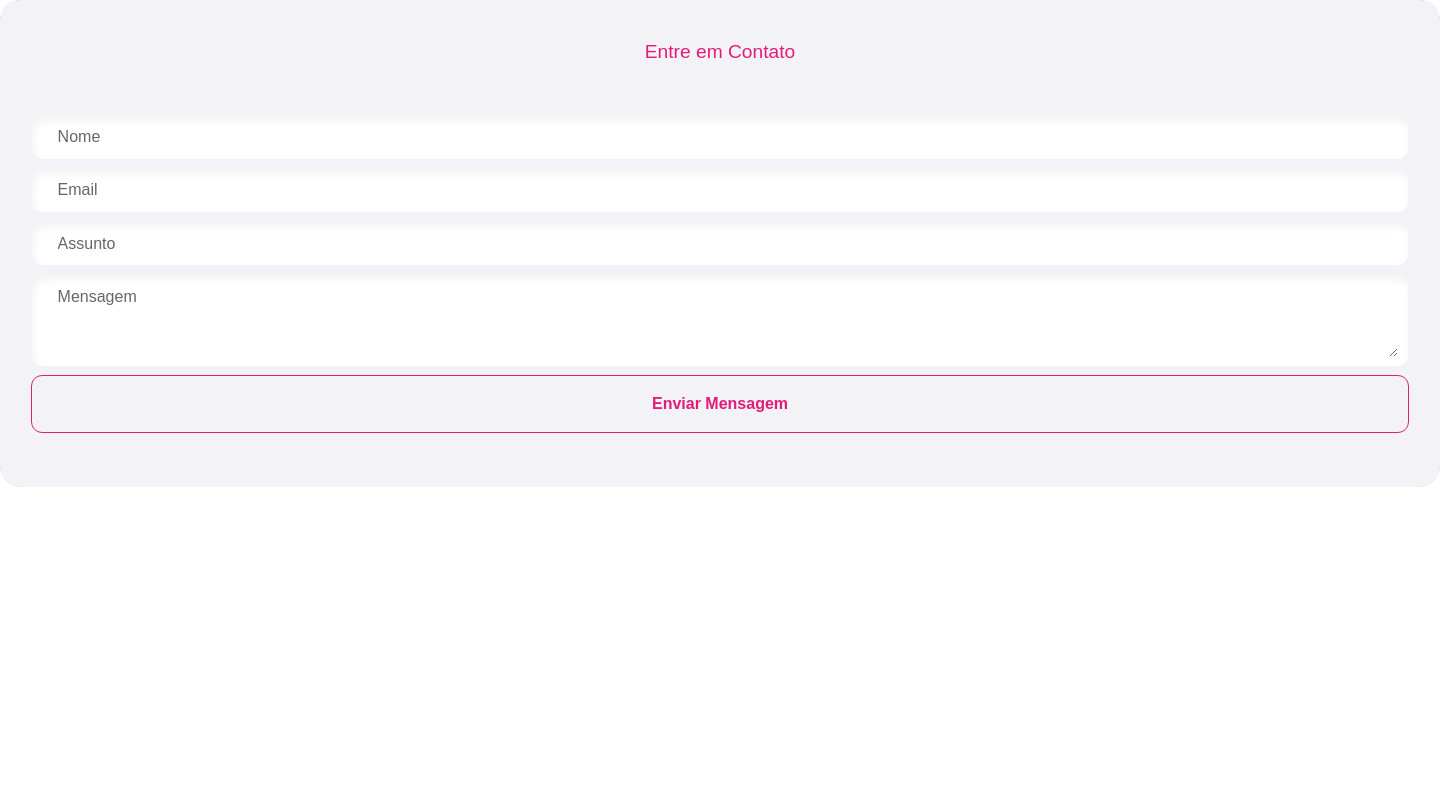
Test: ContactForm › falha de rede: mensagem genérica de erro
Type "Ada" into the field with placeholder "Nome" at (720, 137), box [42,125,1398,149]
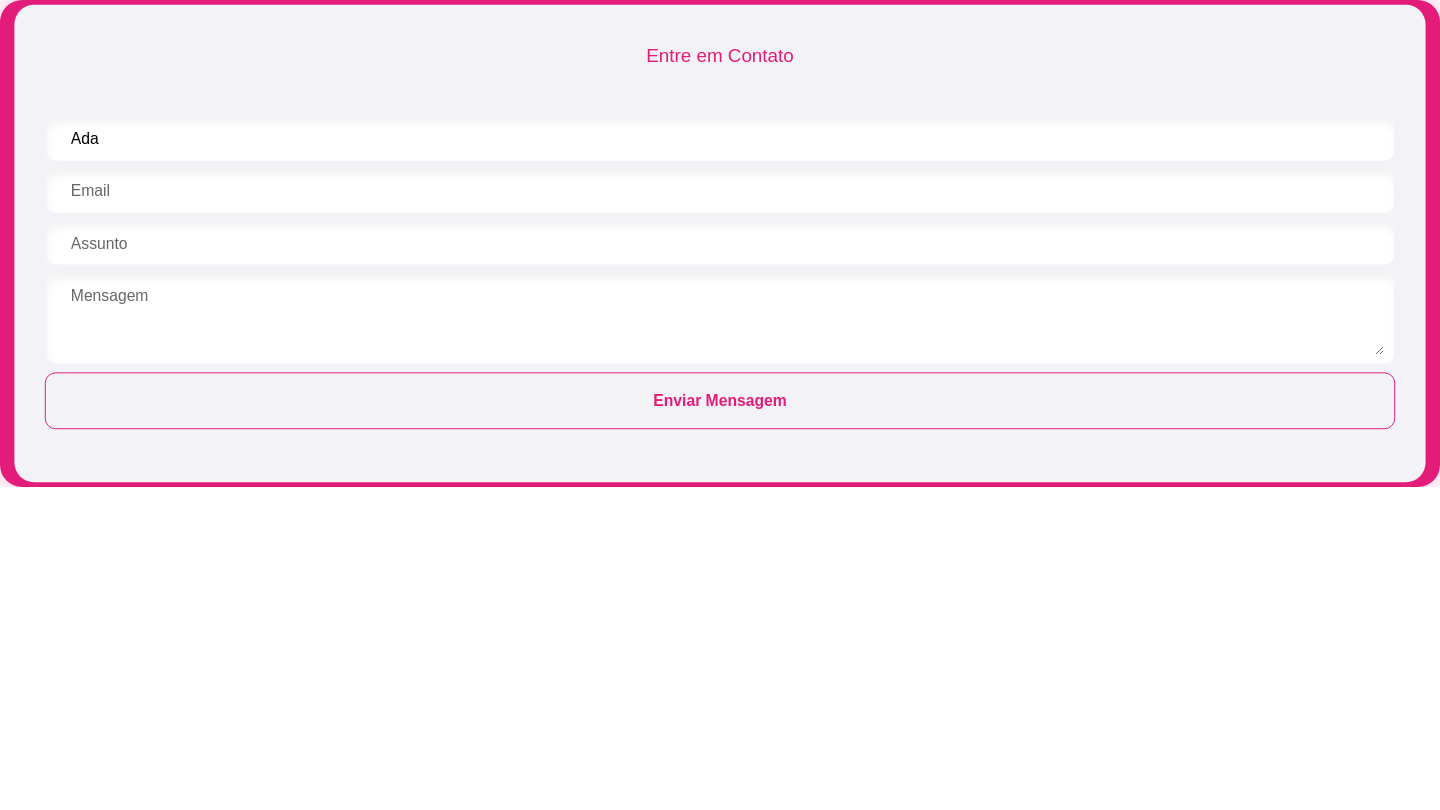
Type "ada@example.com" into the field with placeholder "Email" at (720, 191), box [55,180,1385,203]
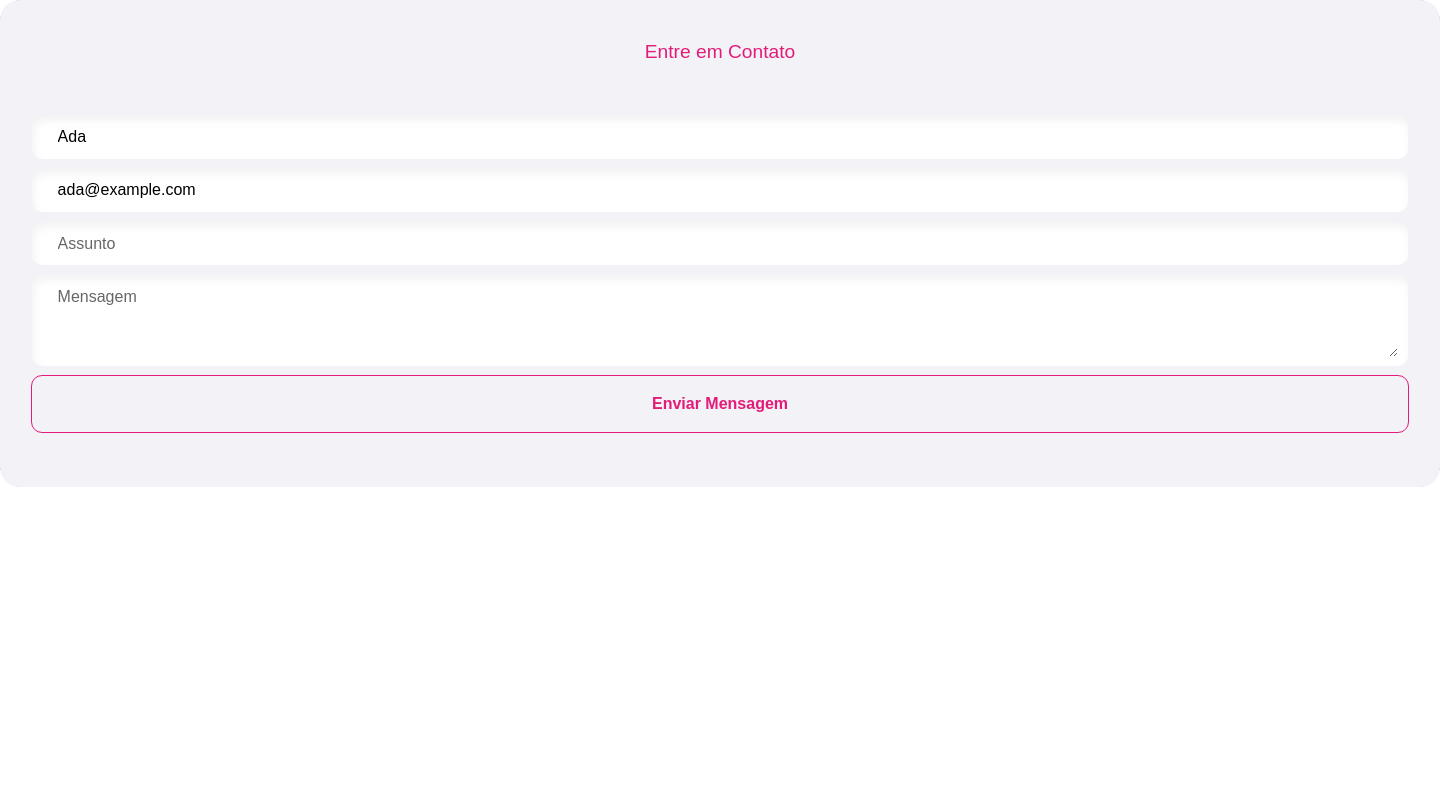
Type "Oi" into the field with placeholder "Assunto" at (720, 244), box [42,232,1398,256]
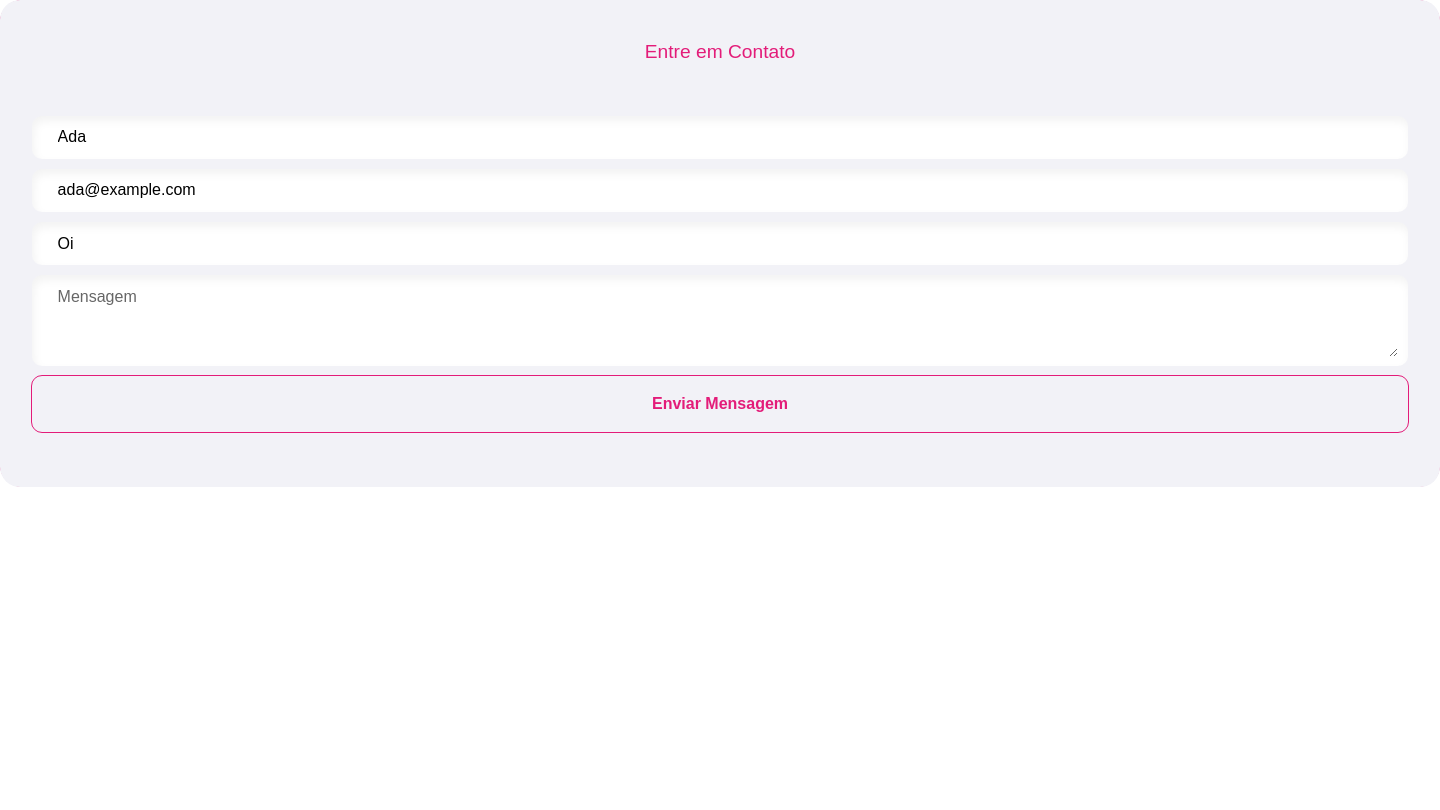
Type "Olá!" into the text box with placeholder "Mensagem" at (720, 321), box [42,285,1398,357]
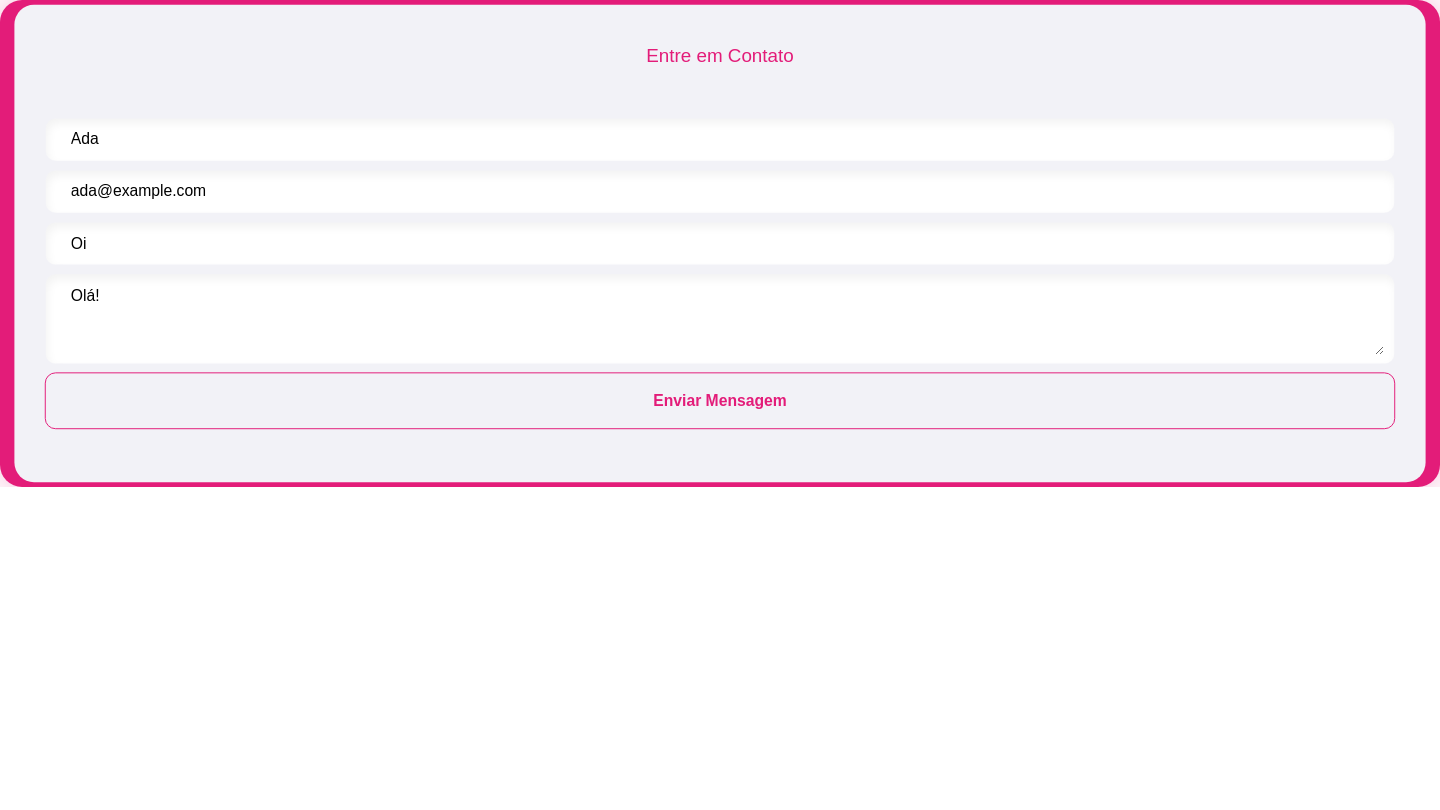
Click the button "Enviar Mensagem" at (720, 401), box [46,374,1394,429]
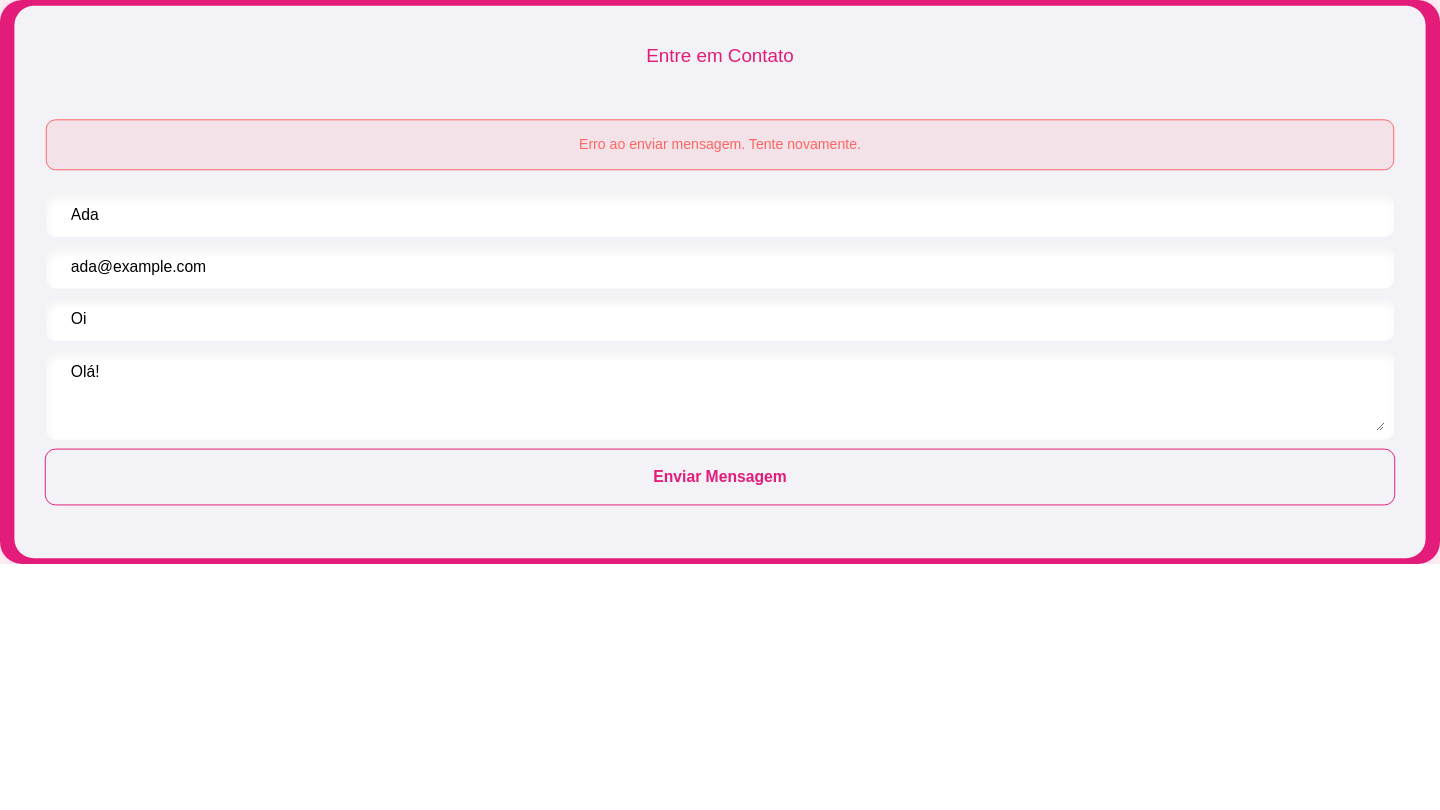
Now the text "Erro ao enviar mensagem. Tente novamente." is shown, box [46,119,1394,170]
